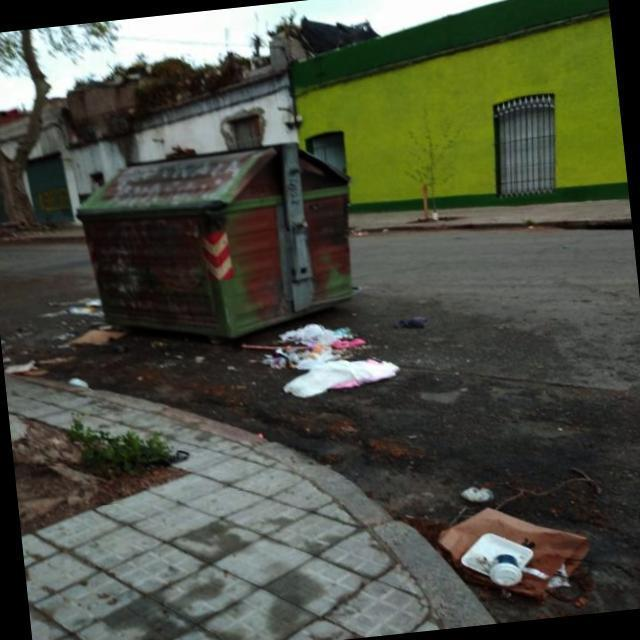garbage: (396, 429, 634, 632), (237, 280, 430, 433), (0, 270, 159, 419)
